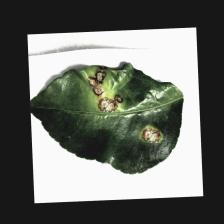greening: (86, 68, 170, 142)
